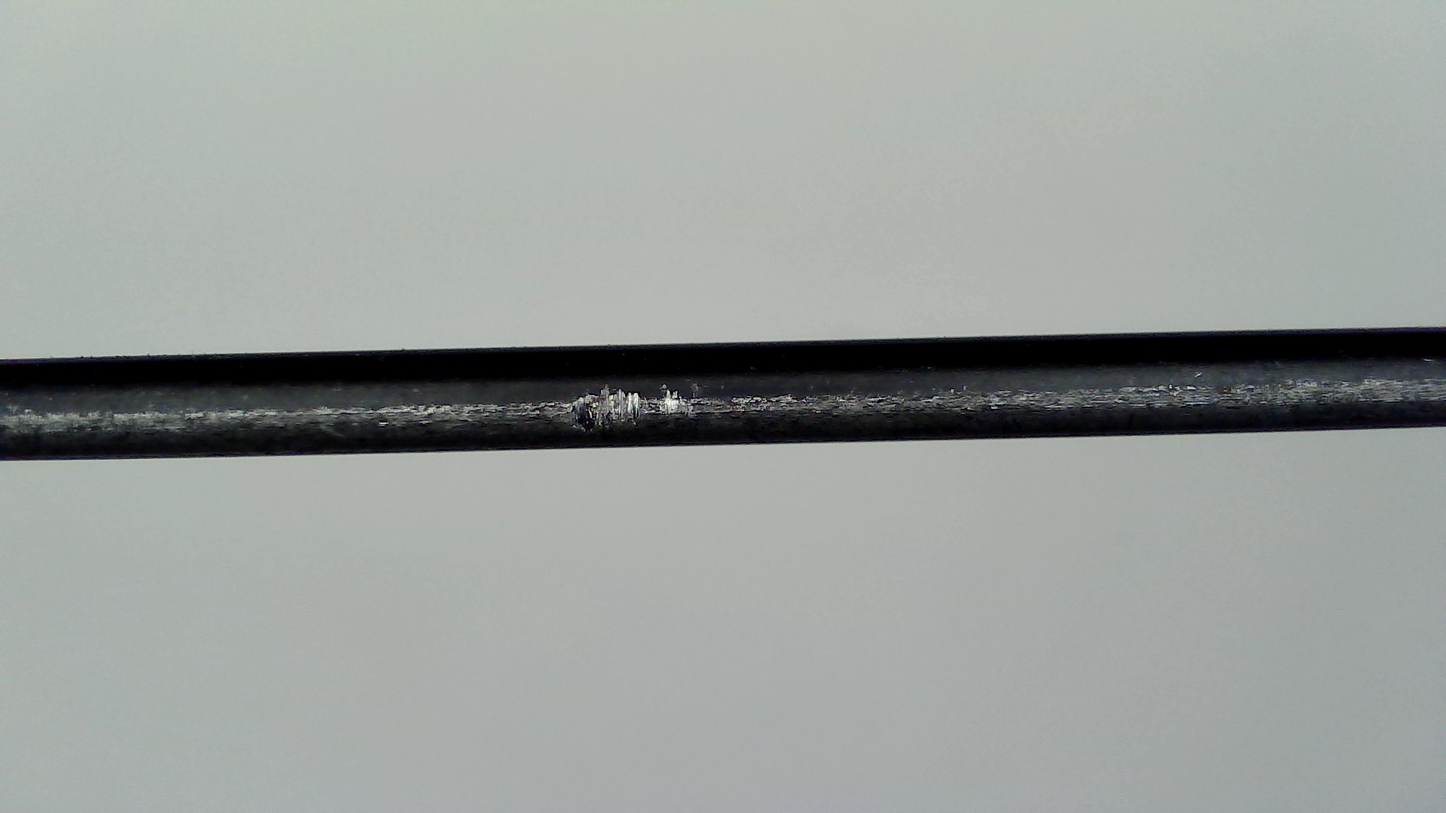defect: (544, 365, 727, 439)
